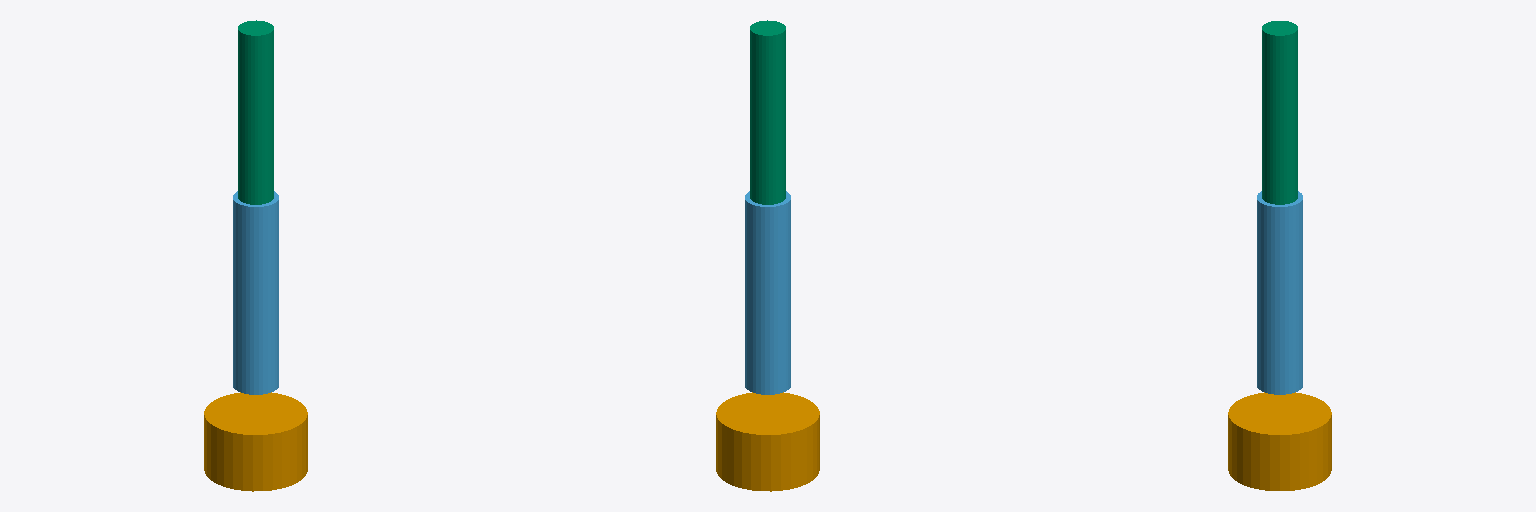
URDF robot description (waddle_portable_demo_arm):
<?xml version="1.0"?>
<robot name="waddle_portable_demo_arm">
  <link name="base">
    <inertial>
      <origin xyz="0 0 0.06" rpy="0 0 0"/>
      <mass value="1.0"/>
      <inertia ixx="0.01" ixy="0" ixz="0" iyy="0.01" iyz="0" izz="0.01"/>
    </inertial>
    <visual><geometry><cylinder radius="0.10" length="0.12"/></geometry></visual>
    <collision><geometry><cylinder radius="0.10" length="0.12"/></geometry></collision>
  </link>
  <link name="upper_arm">
    <inertial>
      <origin xyz="0 0 0.20" rpy="0 0 0"/>
      <mass value="0.6"/>
      <inertia ixx="0.012" ixy="0" ixz="0" iyy="0.012" iyz="0" izz="0.002"/>
    </inertial>
    <visual>
      <origin xyz="0 0 0.20" rpy="0 0 0"/>
      <geometry><cylinder radius="0.045" length="0.40"/></geometry>
    </visual>
    <collision>
      <origin xyz="0 0 0.20" rpy="0 0 0"/>
      <geometry><cylinder radius="0.045" length="0.40"/></geometry>
    </collision>
  </link>
  <link name="forearm">
    <inertial>
      <origin xyz="0 0 0.18" rpy="0 0 0"/>
      <mass value="0.4"/>
      <inertia ixx="0.008" ixy="0" ixz="0" iyy="0.008" iyz="0" izz="0.0015"/>
    </inertial>
    <visual>
      <origin xyz="0 0 0.18" rpy="0 0 0"/>
      <geometry><cylinder radius="0.035" length="0.36"/></geometry>
    </visual>
    <collision>
      <origin xyz="0 0 0.18" rpy="0 0 0"/>
      <geometry><cylinder radius="0.035" length="0.36"/></geometry>
    </collision>
  </link>
  <link name="tool"/>
  <joint name="shoulder" type="revolute">
    <parent link="base"/>
    <child link="upper_arm"/>
    <origin xyz="0 0 0.12" rpy="0 0 0"/>
    <axis xyz="0 1 0"/>
    <limit lower="-1.4" upper="1.4" velocity="1.5" effort="12"/>
  </joint>
  <joint name="elbow" type="revolute">
    <parent link="upper_arm"/>
    <child link="forearm"/>
    <origin xyz="0 0 0.40" rpy="0 0 0"/>
    <axis xyz="0 1 0"/>
    <limit lower="-1.8" upper="1.8" velocity="1.8" effort="8"/>
  </joint>
  <joint name="tool_fixed" type="fixed">
    <parent link="forearm"/>
    <child link="tool"/>
    <origin xyz="0 0 0.36" rpy="0 0 0"/>
  </joint>
</robot>

--- Facts derived from the render (not from the file) ---
Views: 3 orthographic renders of the robot side by side, from view 1: azimuth 30°, elevation 25°; view 2: azimuth 150°, elevation 25°; view 3: azimuth 270°, elevation 25°.
Robot: waddle_portable_demo_arm — 4 links, 3 joints (2 revolute, 1 fixed); root link base; default pose: all joints at 0.
Links seen in each view (by area): view 1: base, upper_arm, forearm; view 2: base, upper_arm, forearm; view 3: base, upper_arm, forearm.
Boxes of the visible links, left/top/right/bottom form: base: left=204, top=392, right=307, bottom=491; upper_arm: left=233, top=191, right=278, bottom=394; forearm: left=238, top=20, right=273, bottom=204; base: left=716, top=392, right=819, bottom=491; upper_arm: left=745, top=191, right=790, bottom=394; forearm: left=750, top=20, right=785, bottom=204; base: left=1228, top=392, right=1331, bottom=490; upper_arm: left=1257, top=191, right=1302, bottom=394; forearm: left=1262, top=21, right=1297, bottom=204.
Bounding box of the posed robot: 0.2 × 0.2 × 0.94 m (x, y, z).
Geometry: primitives only (box / cylinder / sphere), no mesh files.
